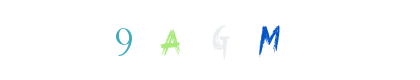9: (130, 0, 210, 80)
A: (143, 0, 223, 80)
G: (170, 0, 250, 80)
M: (229, 0, 309, 80)
